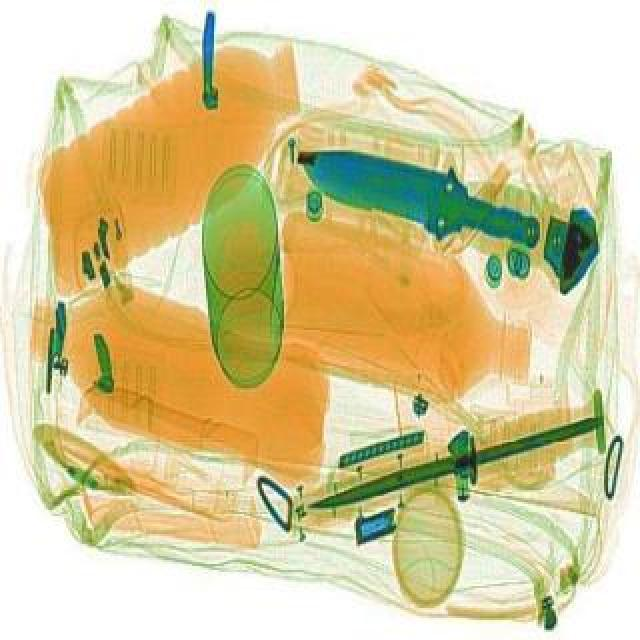knife: (302, 380, 626, 530), (276, 120, 552, 266)
